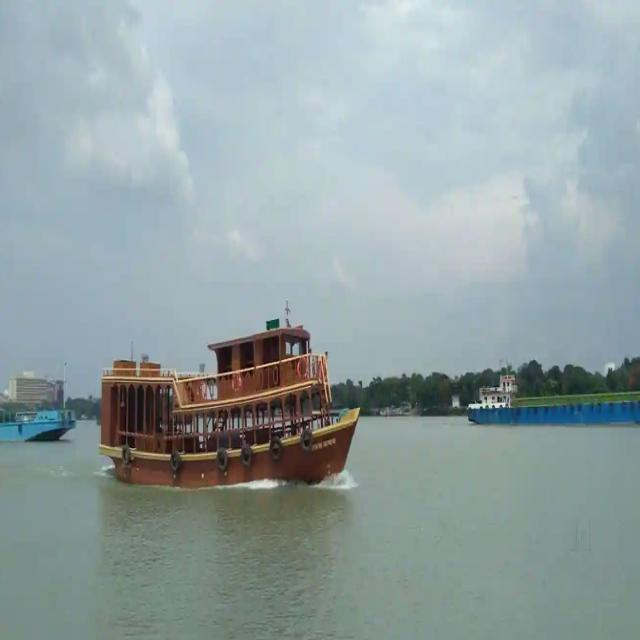cargoship: (457, 375, 640, 445)
